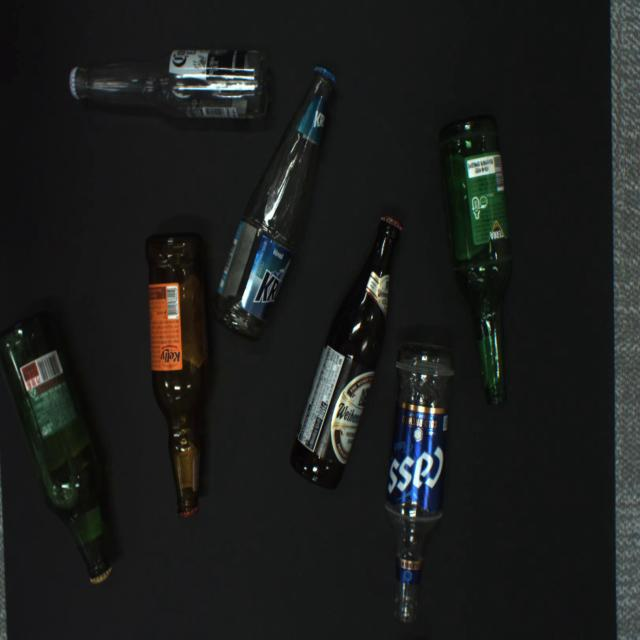beer-bottle: (211, 67, 336, 343), (289, 215, 403, 491), (0, 314, 112, 586), (440, 115, 512, 406), (384, 341, 455, 624), (145, 234, 212, 519), (69, 49, 270, 120)
